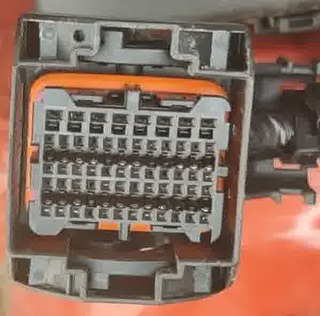connector: (7, 14, 254, 306)
